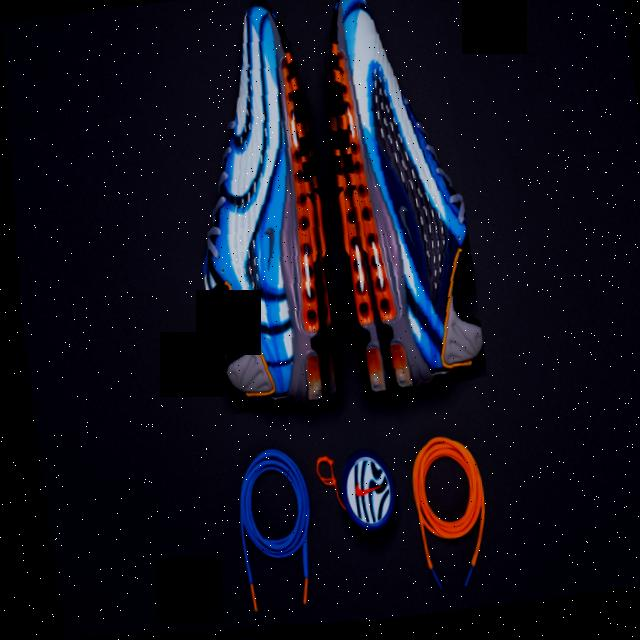shoe: (165, 0, 346, 420), (306, 0, 482, 403)
